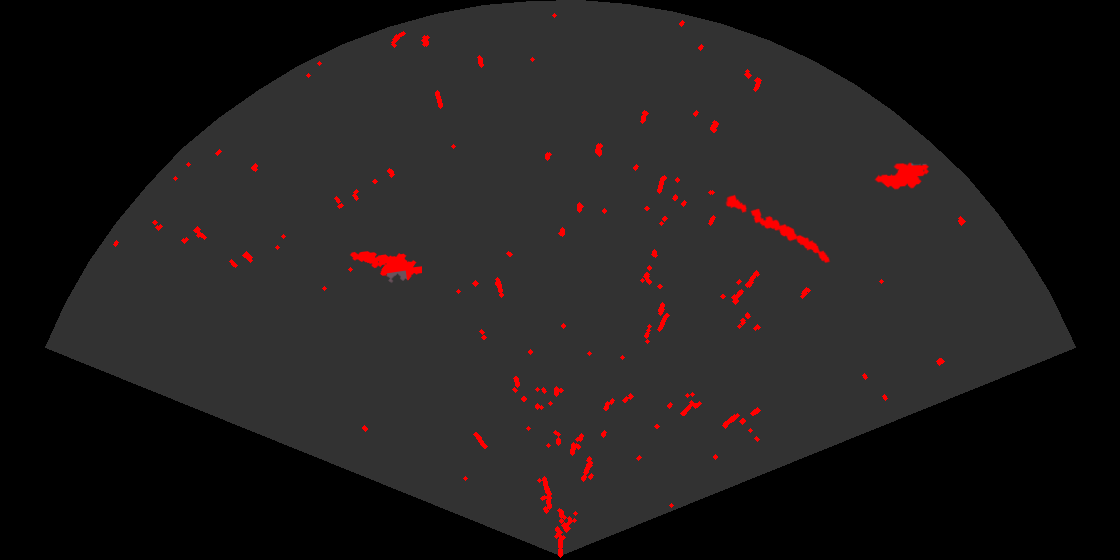AUV: (873, 161, 931, 191)
chain: (724, 193, 832, 265)
frogman: (348, 250, 422, 284)
